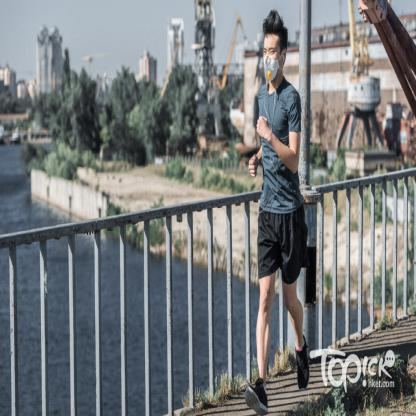Wearing_Mask: (260, 39, 280, 80)
